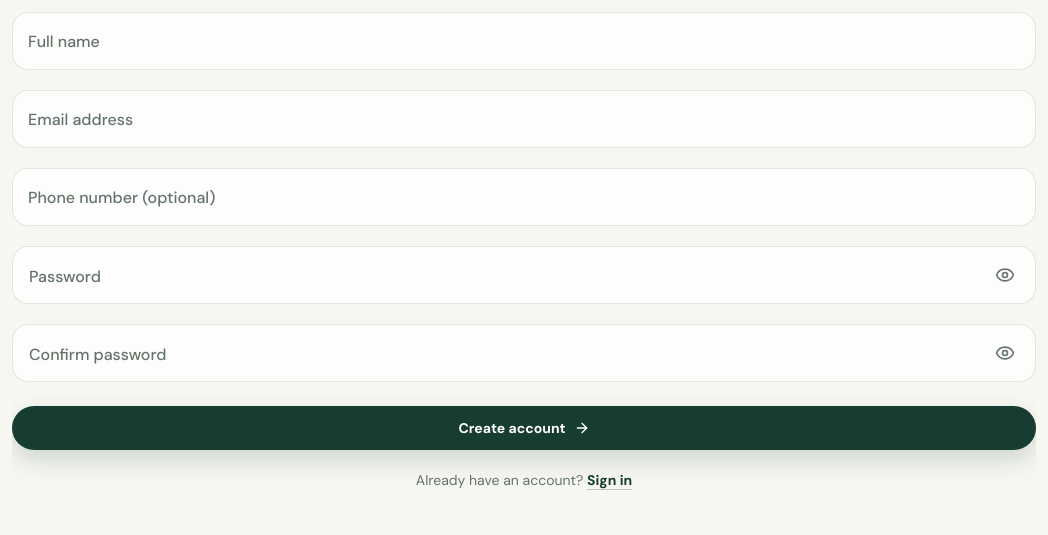
it: AuthForm › validates registration fields and matching passwords without login-only controls
This screenshot has width=1048, height=535.
Type "Asha Rao" into the field labelled "Full name". click: (524, 41)
box: left=12, top=12, right=1036, bottom=70
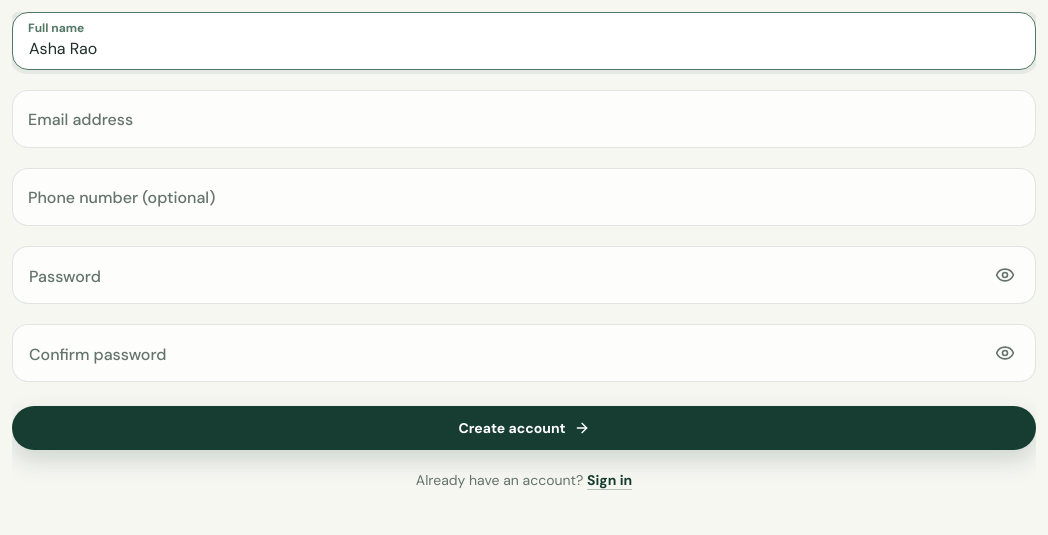
Type "asha@example.com" into the field labelled "Email address". click: (524, 119)
box: left=12, top=90, right=1036, bottom=148
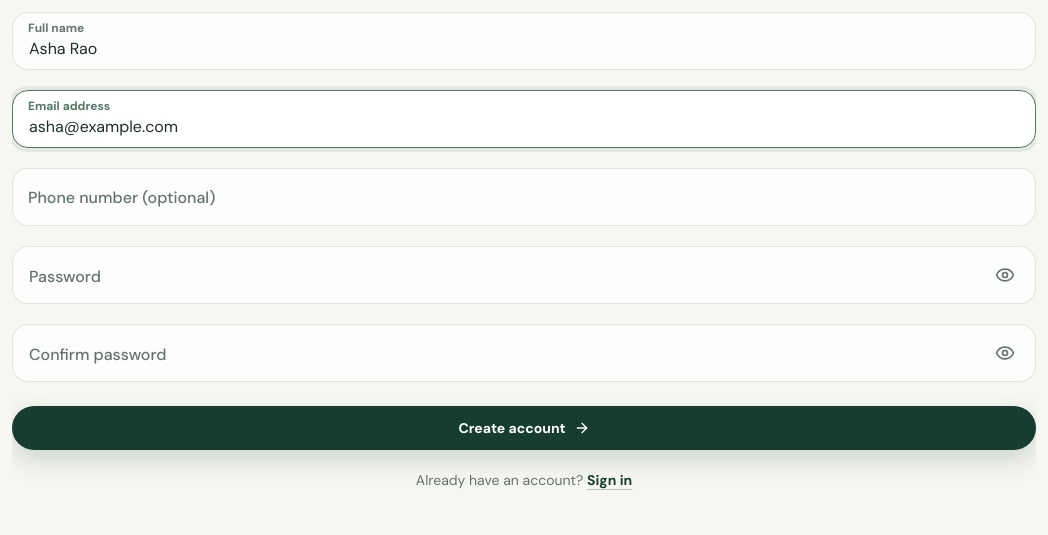
Type "password-one" into the password field labelled "Password". click: (498, 275)
box: left=13, top=247, right=983, bottom=303
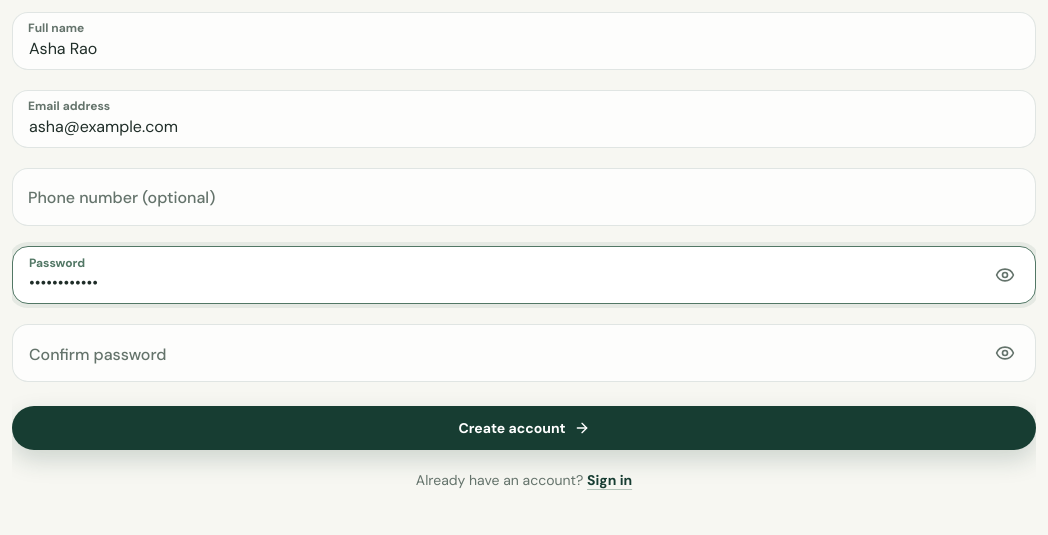
Type "password-two" into the password field labelled "Confirm password". click: (498, 353)
box: left=13, top=325, right=983, bottom=381
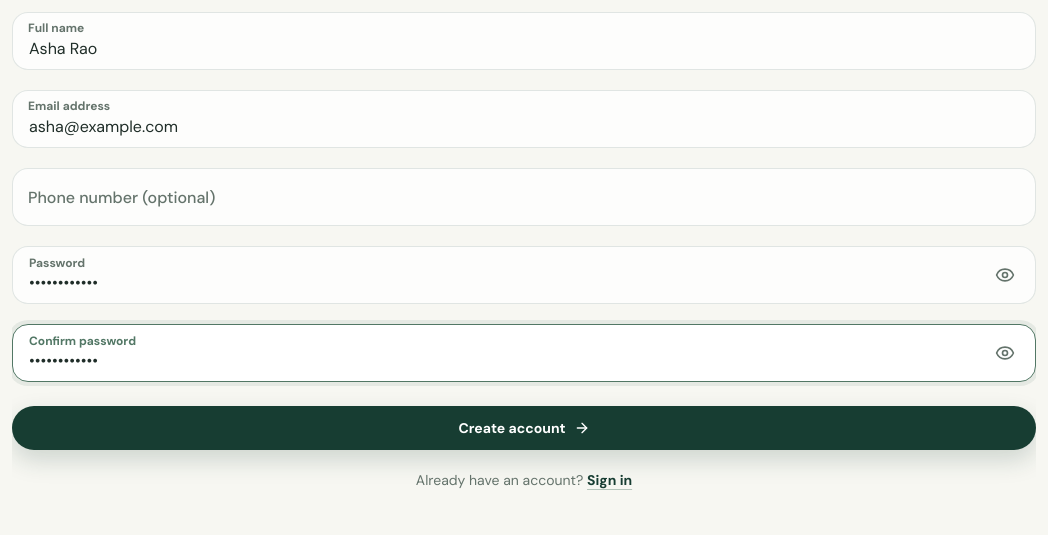
Click the button "Create account". click: (524, 428)
box: left=12, top=406, right=1036, bottom=450
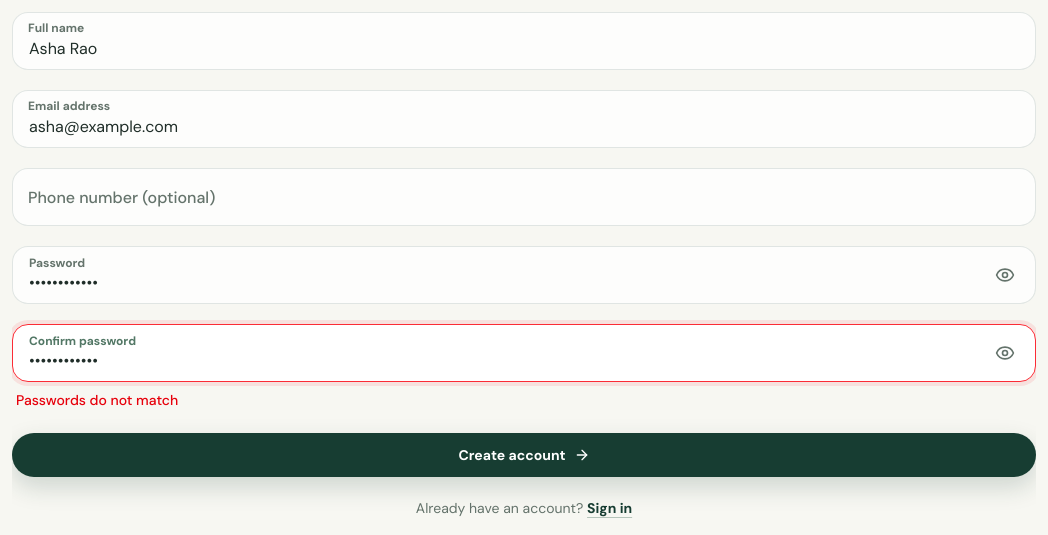
expect the text "Passwords do not match" is shown: met, box left=16, top=391, right=178, bottom=409
